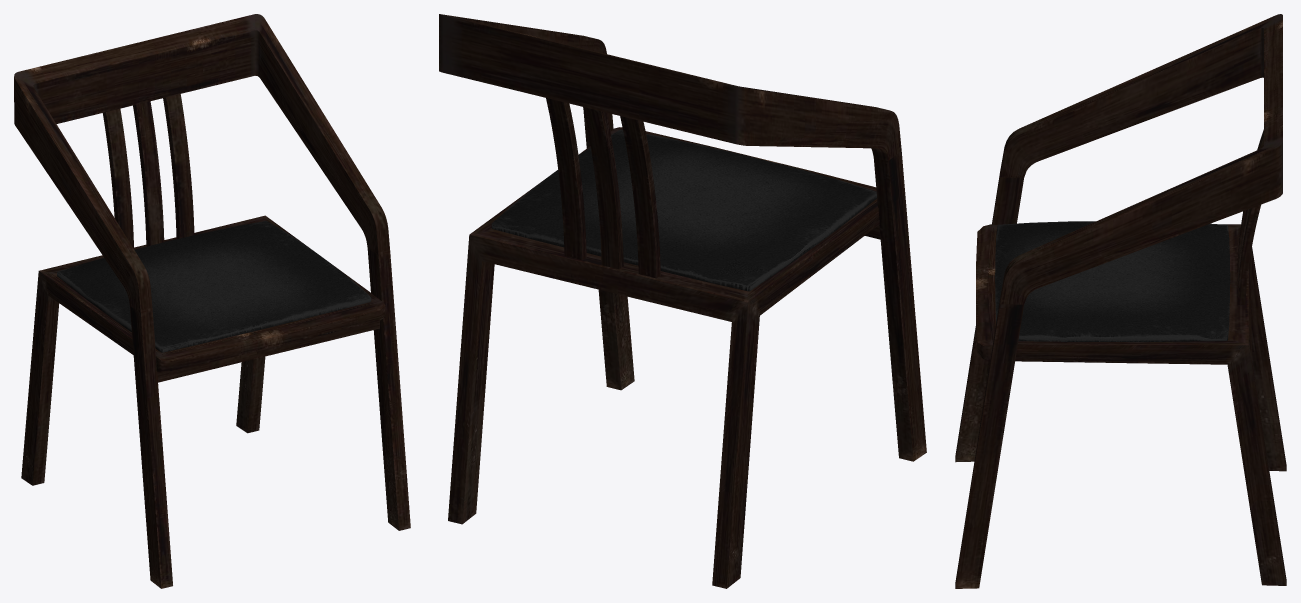
3 views of the same model, side by side, from view 1: azimuth 30°, elevation 25°; view 2: azimuth 150°, elevation 25°; view 3: azimuth 270°, elevation 25° (orthographic). The views are drawn at different scales.
Visible parts, largest first — view 1: Chair; view 2: Chair; view 3: Chair.
Boxes of the visible parts, left/top/right/bottom form: Chair: left=14, top=14, right=410, bottom=588; Chair: left=439, top=14, right=926, bottom=588; Chair: left=955, top=14, right=1286, bottom=588.
Size of the model in its own units: 0.61 by 0.9551 by 0.6415.
Materials: 1 (1 with a texture image).
